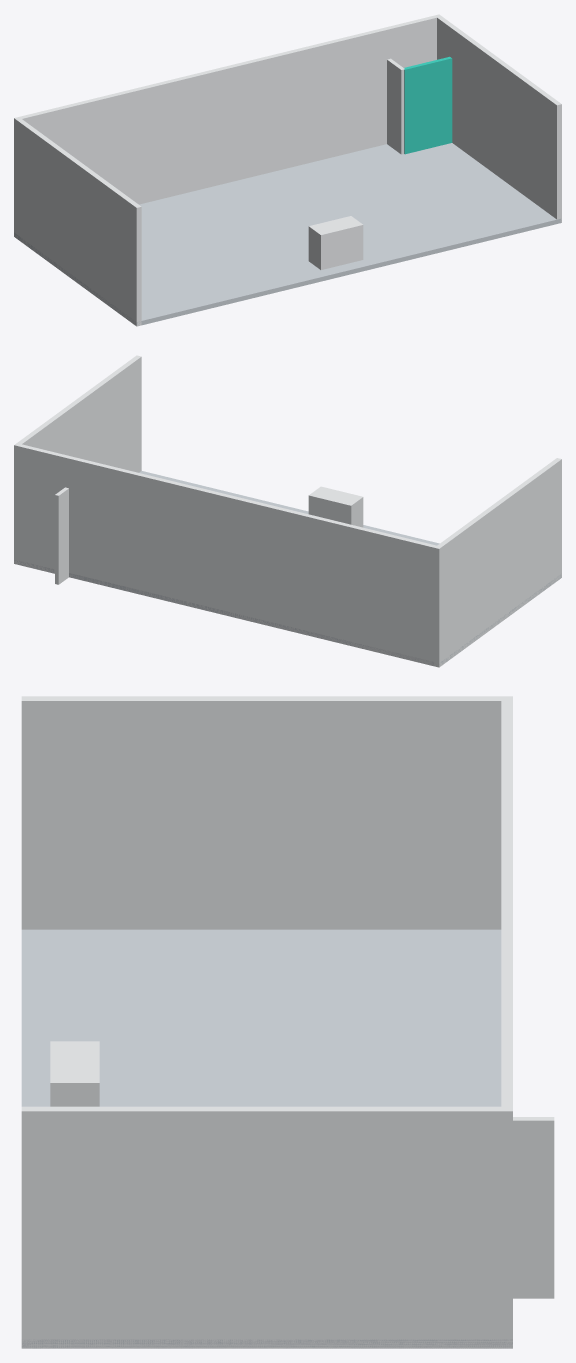
3 views of the same model, one above another, from view 1: azimuth 30°, elevation 25°; view 2: azimuth 150°, elevation 25°; view 3: azimuth 270°, elevation 25° (orthographic). The views are drawn at different scales.
Parts seen in each view (by area): view 1: Exhibition Booth Concept; view 2: Exhibition Booth Concept; view 3: Exhibition Booth Concept.
Part boxes in pixels (x1,y1,x2,y2): Exhibition Booth Concept: (14,14,561,326); Exhibition Booth Concept: (14,355,561,667); Exhibition Booth Concept: (21,696,554,1348).
Bounding box in the file's own units: 12 × 3.2 × 6.51.
